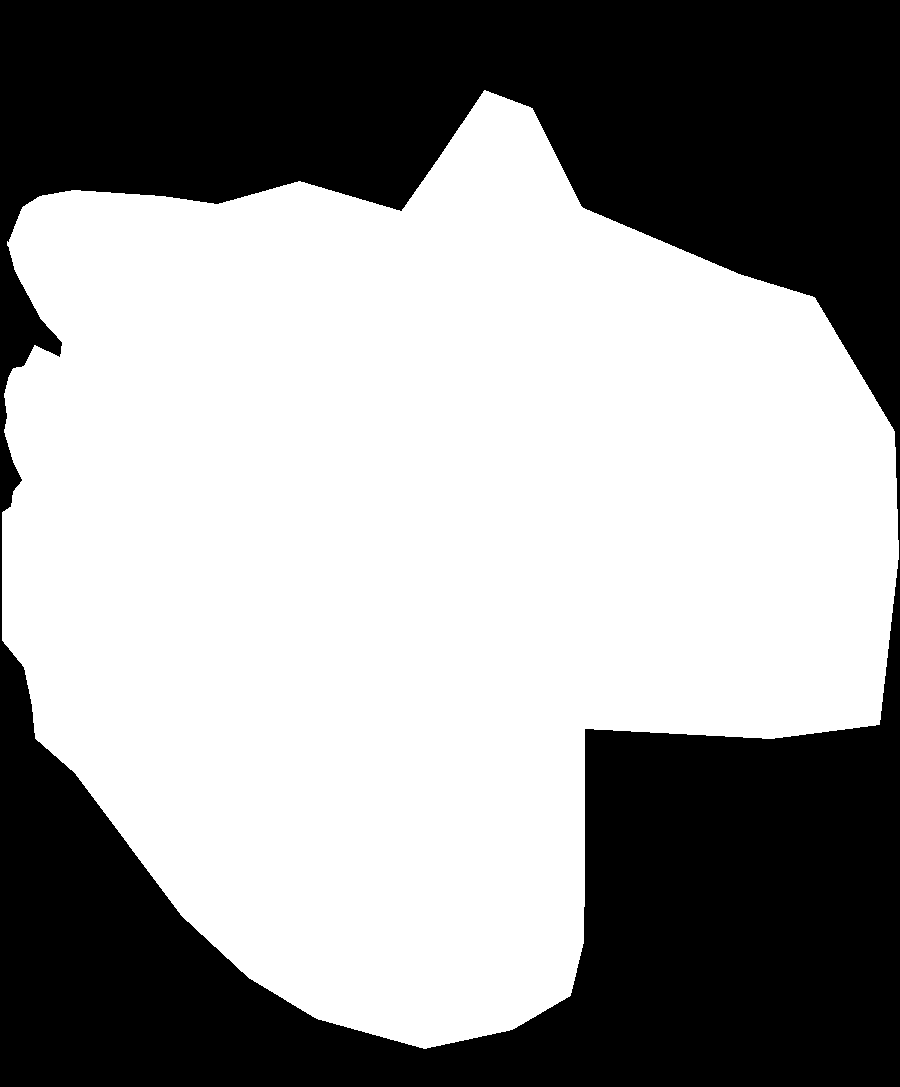Fire: (5, 188, 729, 728)
